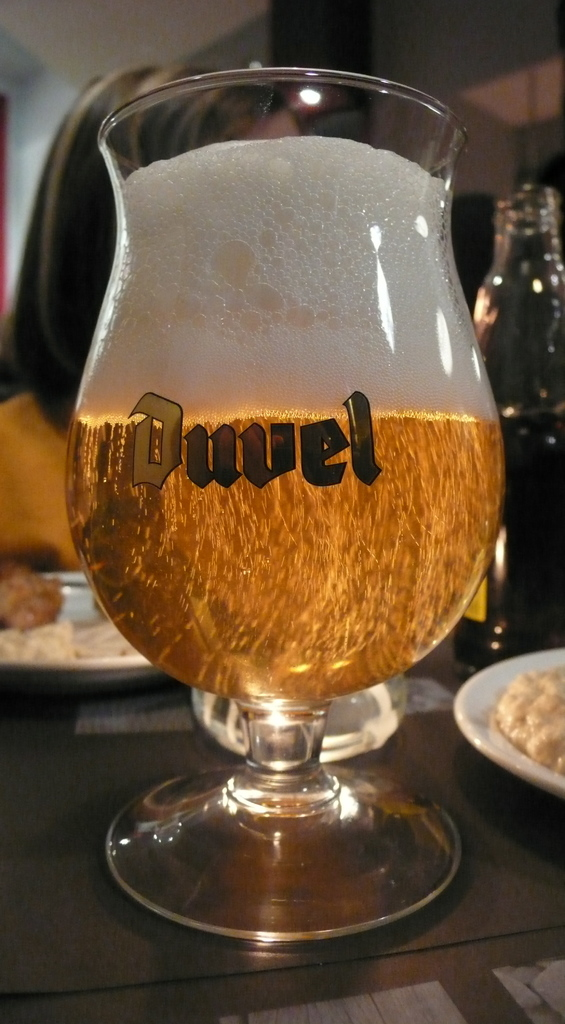Beer: (64, 133, 501, 705)
